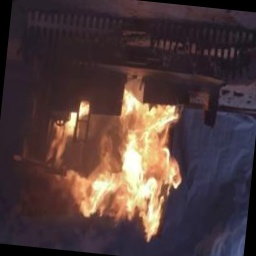fire: (32, 89, 188, 256)
